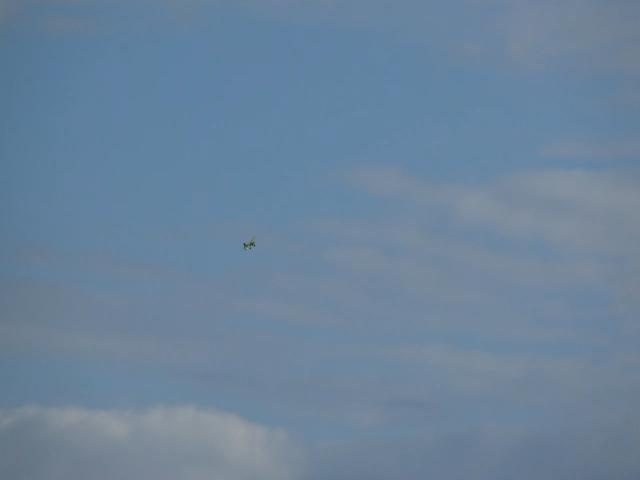plane: (241, 236, 257, 251)
